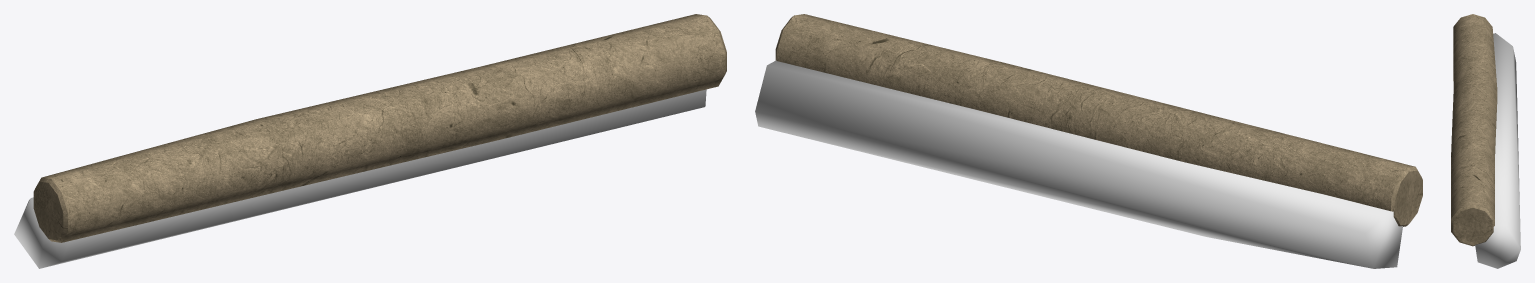
The model's file is SM_Cigarette_01.fbx.
3 views of the same model, side by side, from view 1: azimuth 30°, elevation 25°; view 2: azimuth 150°, elevation 25°; view 3: azimuth 270°, elevation 25° (orthographic). The views are drawn at different scales.
Visible parts, largest first — view 1: SM_Cigarette_01, SM_Cigarette_01_ConvexHulls; view 2: SM_Cigarette_01_ConvexHulls, SM_Cigarette_01; view 3: SM_Cigarette_01, SM_Cigarette_01_ConvexHulls.
Part boxes in pixels (x1,y1,x2,y2): SM_Cigarette_01: (33, 14, 726, 242); SM_Cigarette_01_ConvexHulls: (14, 89, 706, 268); SM_Cigarette_01_ConvexHulls: (755, 60, 1402, 268); SM_Cigarette_01: (775, 14, 1422, 226); SM_Cigarette_01: (1451, 14, 1497, 246); SM_Cigarette_01_ConvexHulls: (1475, 33, 1520, 268).
Size of the model in its own units: 0.0921 by 0.0141 by 0.014.
